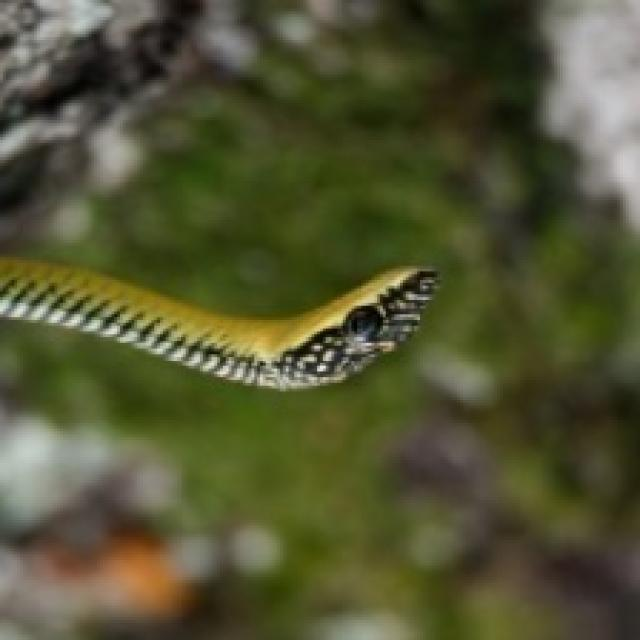paradise tree snake: (0, 257, 437, 389)
